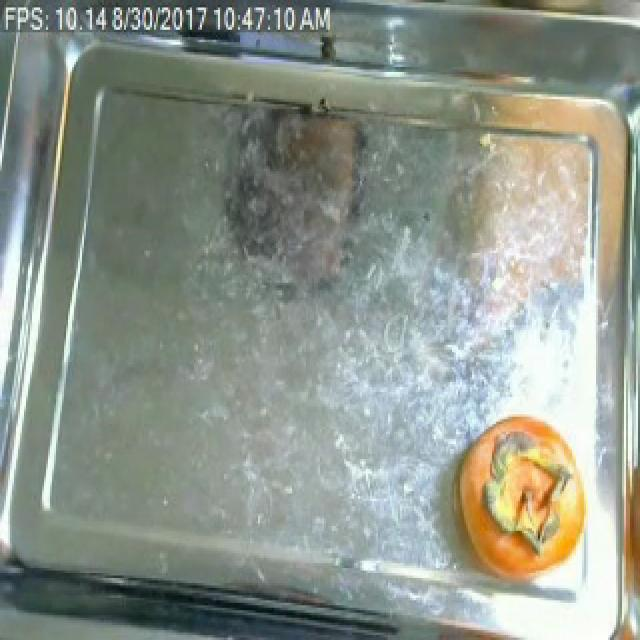Fruit: (458, 126, 604, 328), (482, 409, 586, 566)
